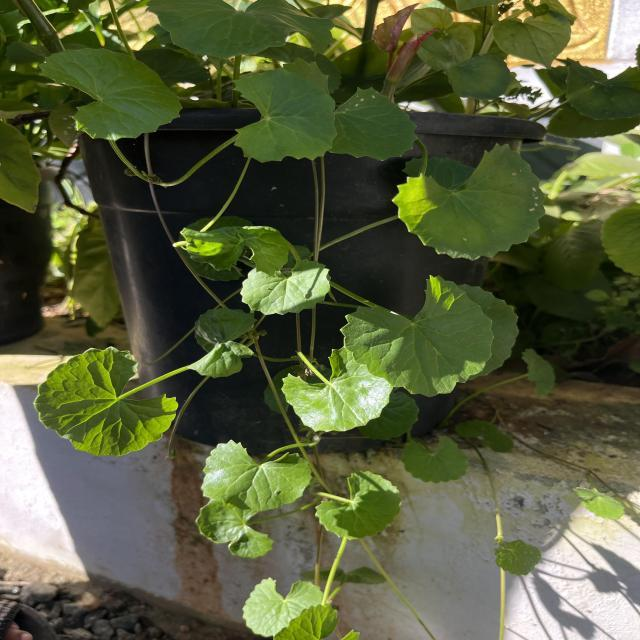Centella asiatica: (337, 271, 497, 398), (388, 140, 548, 264), (31, 344, 180, 458), (34, 45, 186, 144), (230, 64, 340, 166), (279, 358, 395, 434), (198, 438, 314, 513), (326, 83, 420, 164), (238, 255, 334, 318)
